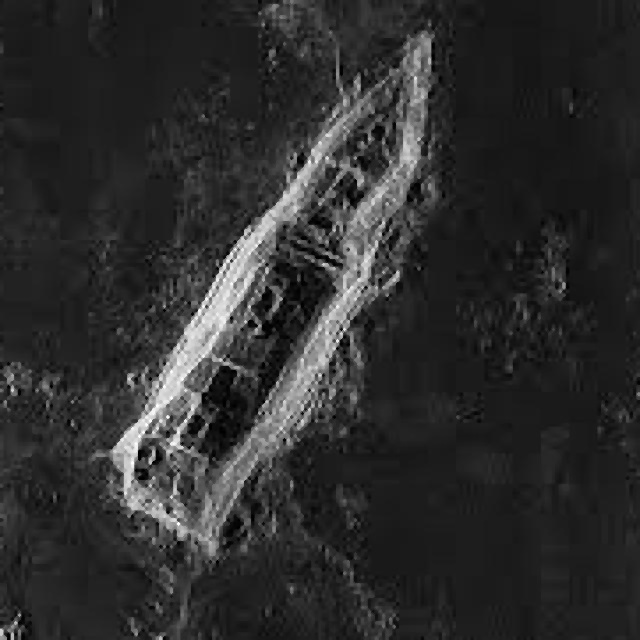Ship: (102, 12, 451, 573)
